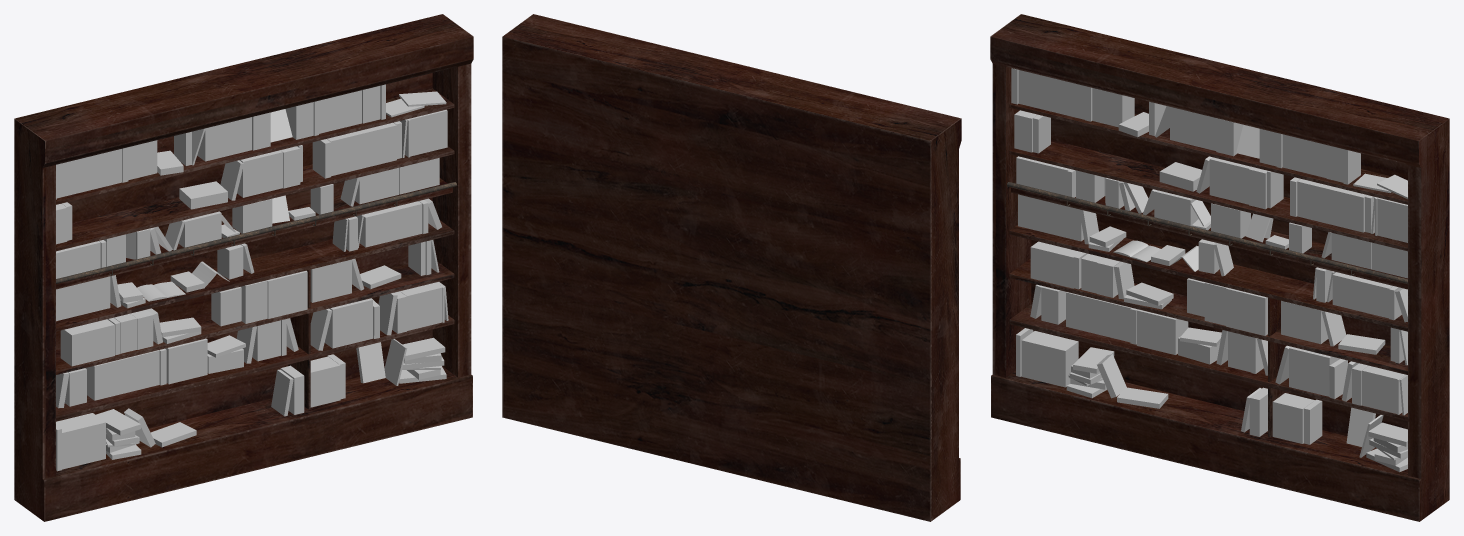
File: SM_BookcaseD.FBX
3 views of the same model, side by side, from view 1: azimuth 30°, elevation 25°; view 2: azimuth 150°, elevation 25°; view 3: azimuth 330°, elevation 25° (orthographic).
Visible parts, largest first — view 1: SM_BookcaseD_LOD0; view 2: SM_BookcaseD_LOD0; view 3: SM_BookcaseD_LOD0.
Part boxes in pixels (box(x1,y1,x2,y2)): SM_BookcaseD_LOD0: box(14, 14, 473, 521); SM_BookcaseD_LOD0: box(502, 14, 961, 521); SM_BookcaseD_LOD0: box(990, 14, 1449, 521).
Size of what is drawn, in the model's own units: 400 by 340 by 50.
